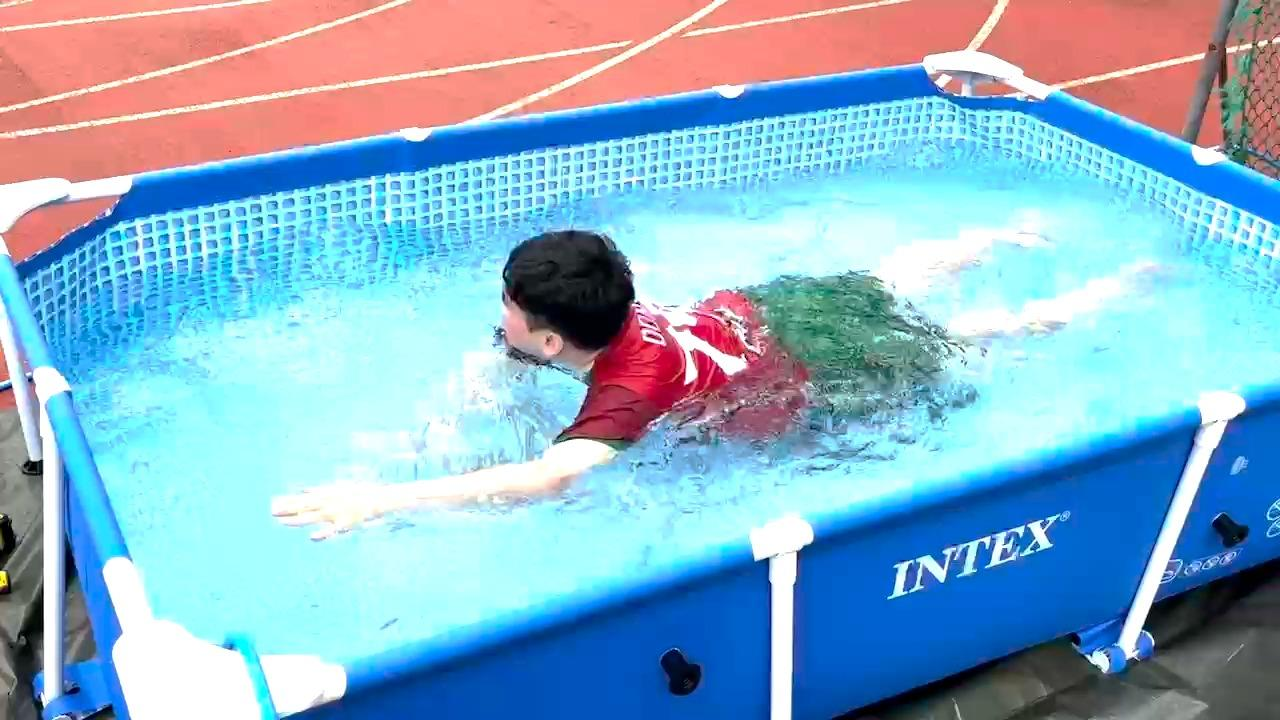Swimming: (199, 172, 1169, 580)
